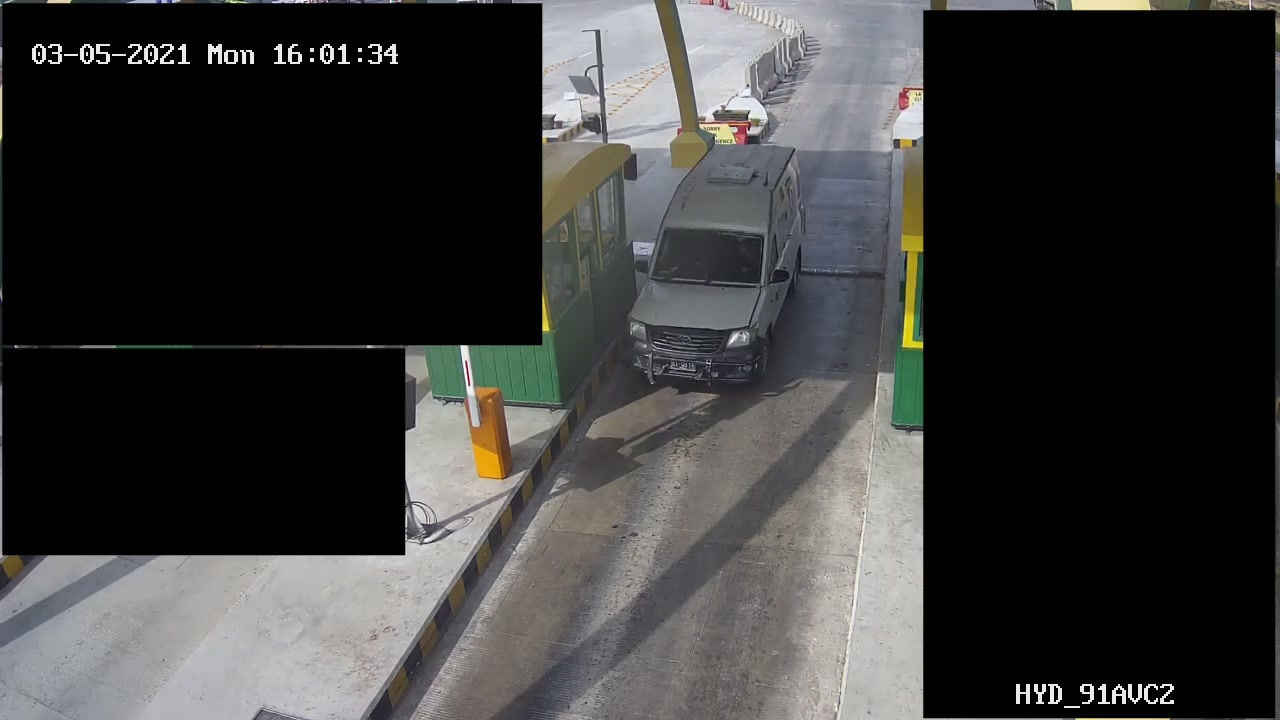F1: (623, 144, 823, 390)
